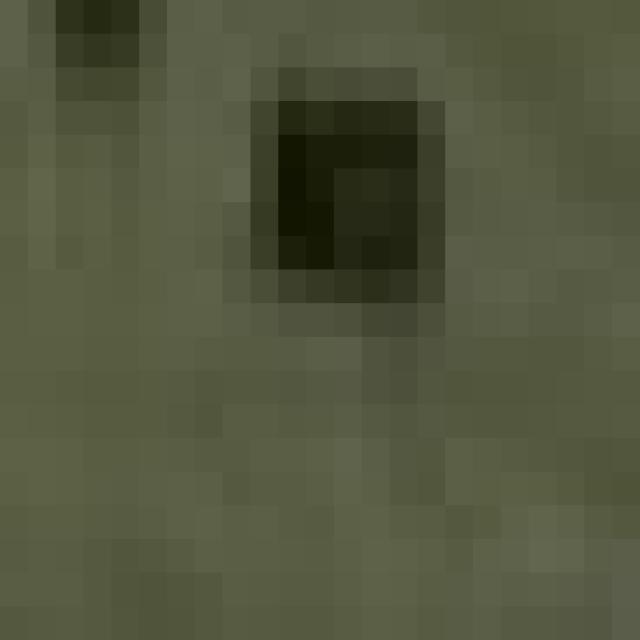.: (209, 51, 506, 367)
